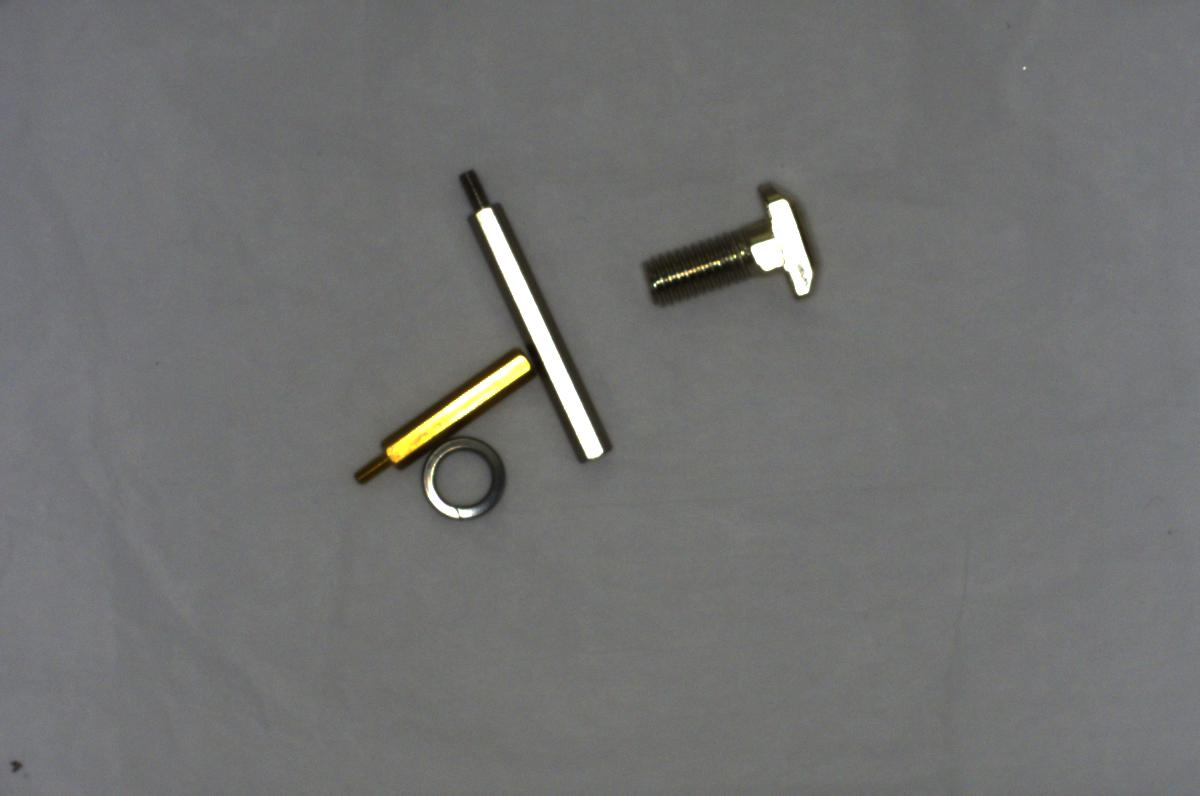Hexagon pillar: (344, 348, 534, 488)
Hexagonal steel column: (459, 160, 617, 468)
Spring washer: (417, 439, 519, 518)
T-shaped screw: (634, 176, 820, 314)
